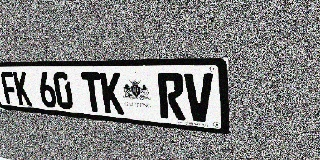0: (52, 72, 74, 110)
6: (37, 72, 58, 108)
F: (0, 72, 19, 105)
K: (100, 72, 124, 115), (13, 72, 32, 106)
R: (157, 73, 185, 120)
T: (81, 72, 104, 113)
V: (184, 73, 214, 123)
